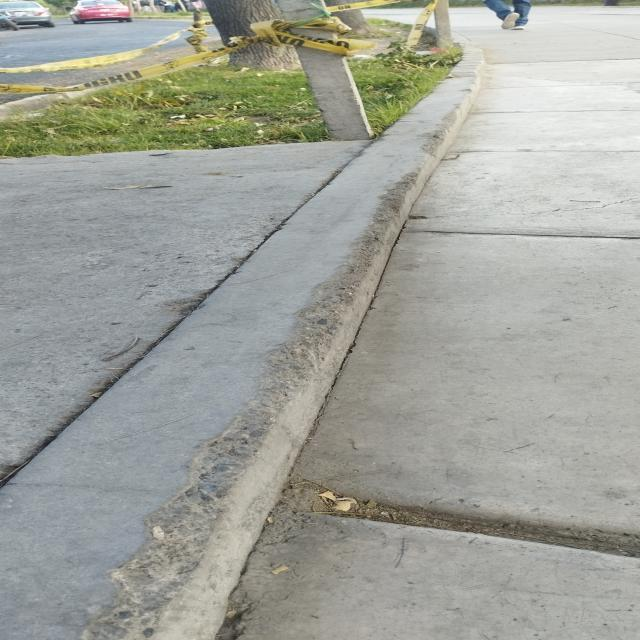bump: (129, 137, 453, 640)
